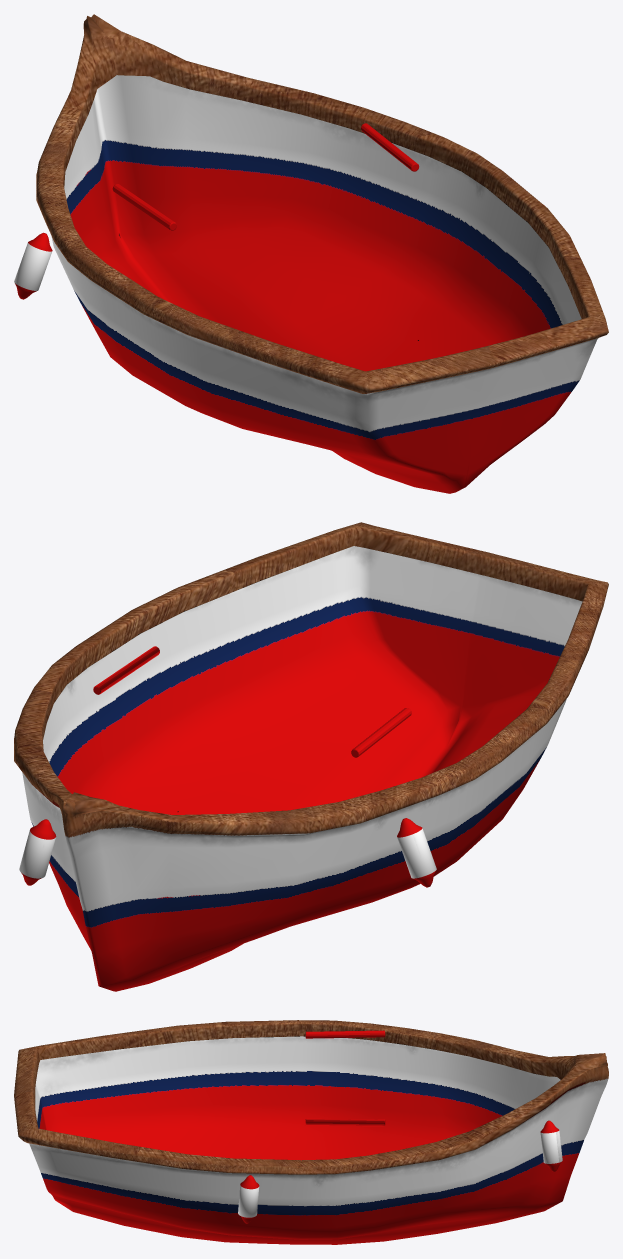
The model's file is barque.obj.
The picture shows the model from 3 angles, top to bottom: view 1: azimuth 30°, elevation 25°; view 2: azimuth 150°, elevation 25°; view 3: azimuth 270°, elevation 25°; orthographic projection. The views are drawn at different scales.
Visible parts, largest first — view 1: Material-PARABORDI; view 2: Material-PARABORDI; view 3: Material-PARABORDI.
Part boxes in pixels (x1,y1,x2,y2): Material-PARABORDI: [14, 14, 608, 493]; Material-PARABORDI: [14, 522, 608, 991]; Material-PARABORDI: [14, 1020, 608, 1244].
Size of the model in its own units: 4.27 by 2.42 by 6.91.
Materials: 1 (1 with a texture image).
